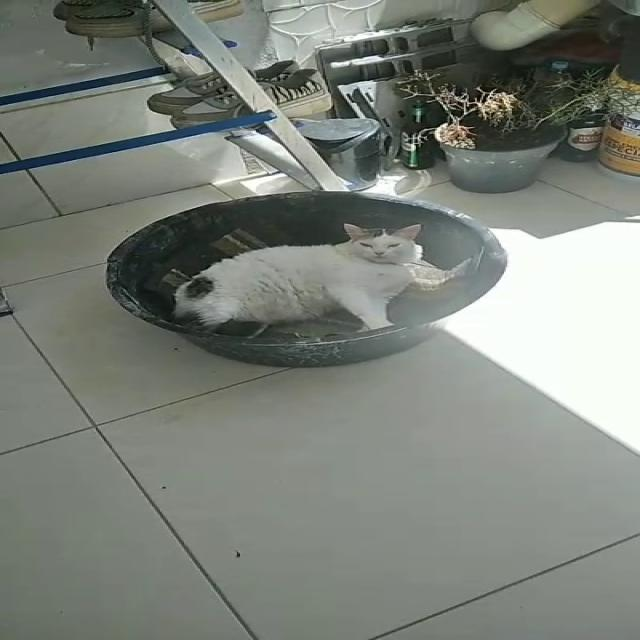Simba: (171, 221, 478, 328)
